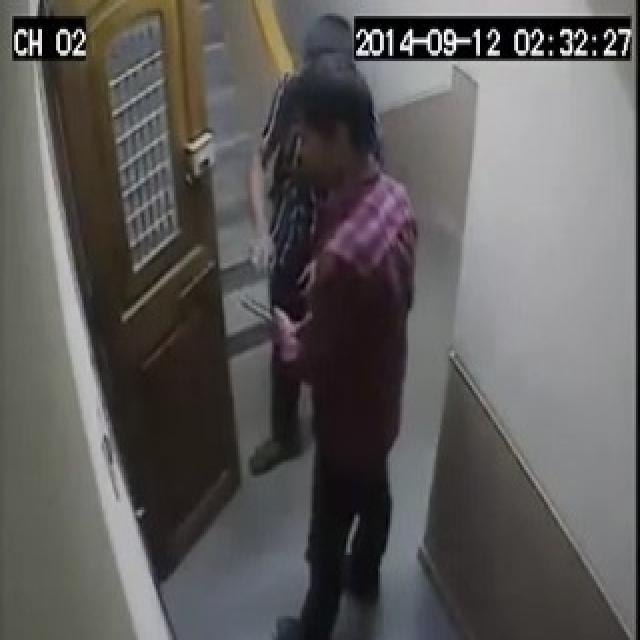burglary: (190, 83, 412, 518)
